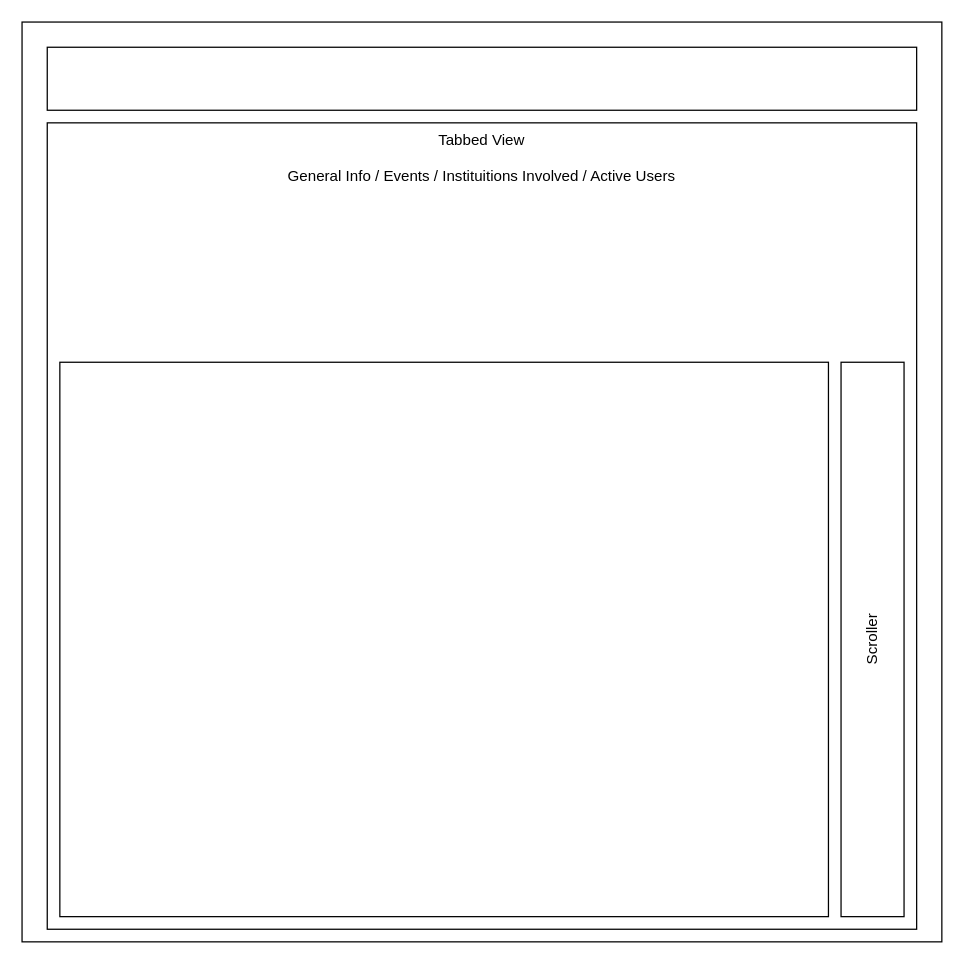
The diagram is 964 pixels wide and 964 high, and some of its shapes have lost their labels. Here are the shapes that lost their labels. From the top down, the centre of each, then its label:
At pixel 481 78: "Incident".
At pixel 443 639: "Opened Event Description / Info".
